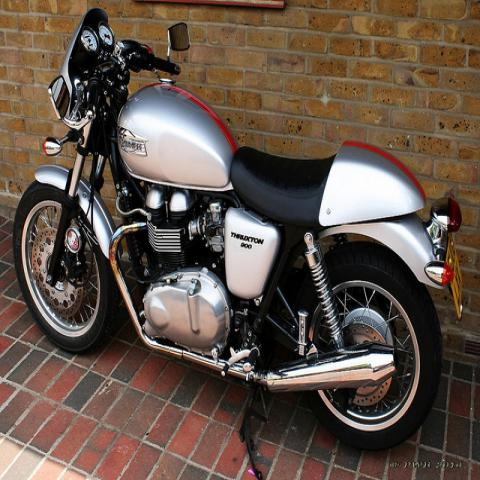motorcycle: (12, 5, 466, 479)
